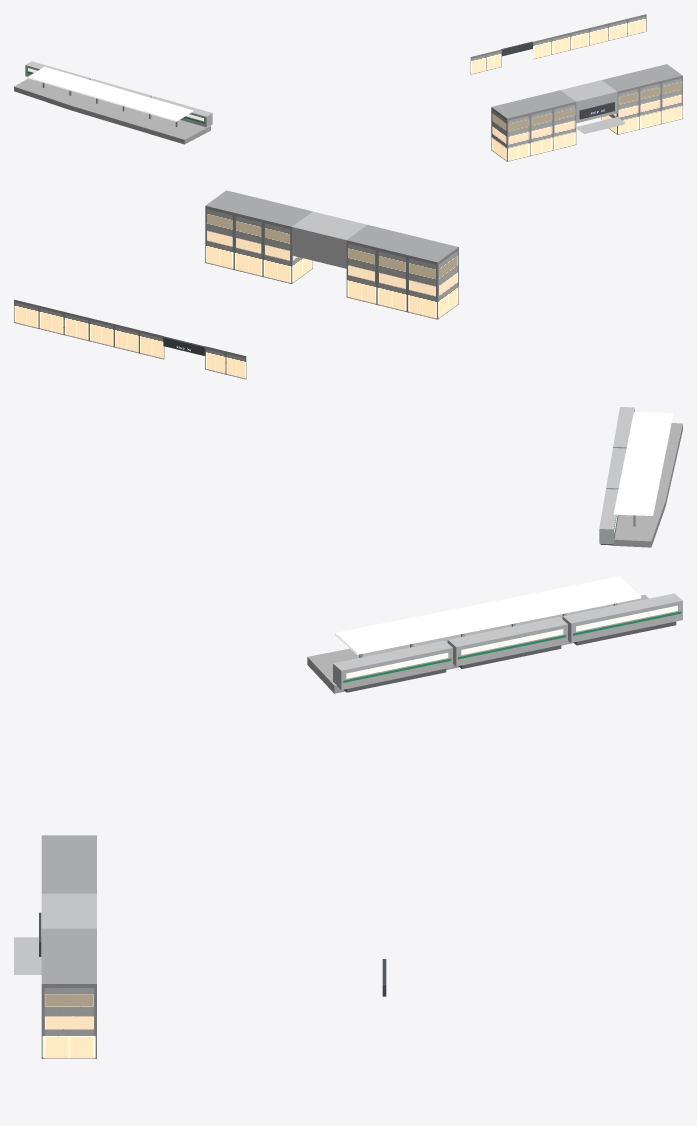
The model's file is gotanda_station.glb.
3 renders of one model, top to bottom at view 1: azimuth 30°, elevation 25°; view 2: azimuth 150°, elevation 25°; view 3: azimuth 270°, elevation 25°, orthographic. The views are drawn at different scales.
Parts seen in each view (by area): view 1: GT_Station; view 2: GT_Station; view 3: GT_Station.
Part boxes in pixels (x1,y1,x2,y2): GT_Station: (14,14,682,161); GT_Station: (14,190,682,547); GT_Station: (14,576,682,1058).
Size of the model in its own units: 162 by 12 by 96.88.
13 materials, 2 textured.
